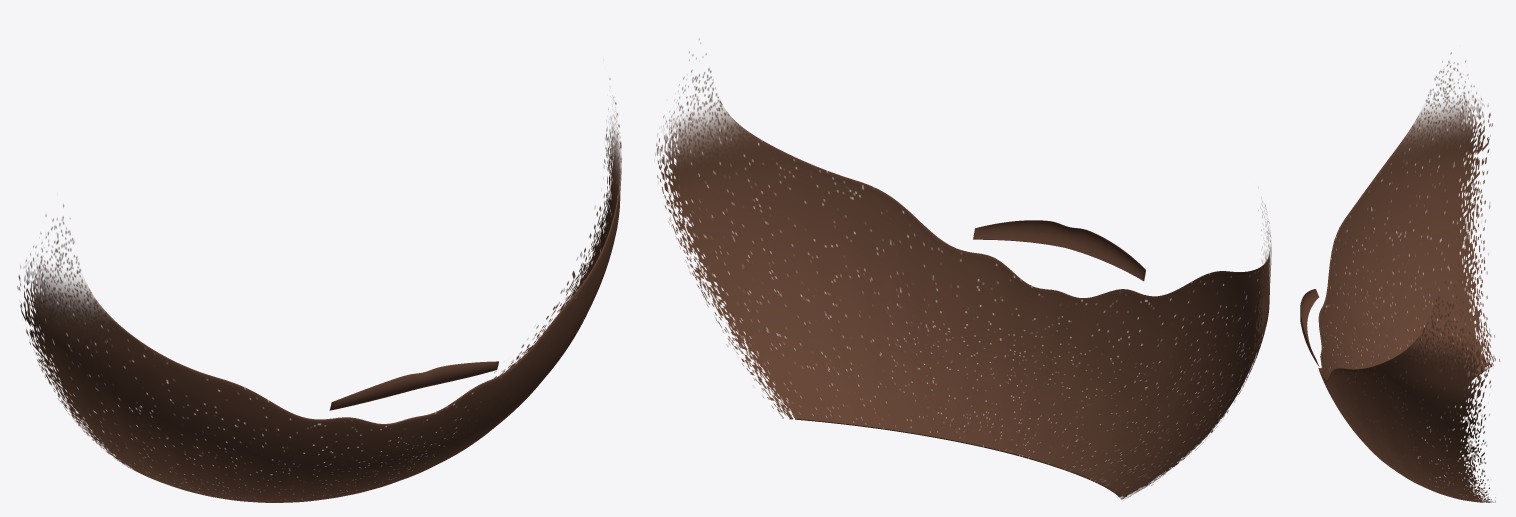
File: Masculine-groom-short.glb
The picture shows the model from 3 angles, left to right: view 1: azimuth 30°, elevation 25°; view 2: azimuth 150°, elevation 25°; view 3: azimuth 270°, elevation 25°; orthographic projection. The views are drawn at different scales.
Visible parts, largest first — view 1: Groom / short body184, Groom / shared mustache208; view 2: Groom / short body184, Groom / shared mustache208; view 3: Groom / short body184, Groom / shared mustache208.
Part boxes in pixels (bbox=[...]): Groom / short body184: bbox=[17, 78, 621, 502]; Groom / shared mustache208: bbox=[329, 361, 498, 410]; Groom / short body184: bbox=[655, 38, 1271, 499]; Groom / shared mustache208: bbox=[973, 220, 1145, 281]; Groom / short body184: bbox=[1318, 52, 1499, 502]; Groom / shared mustache208: bbox=[1300, 289, 1319, 366].
Size of the model in its own units: 0.9527 by 0.6001 by 0.3301.
Materials: 2 (1 with a texture image).
